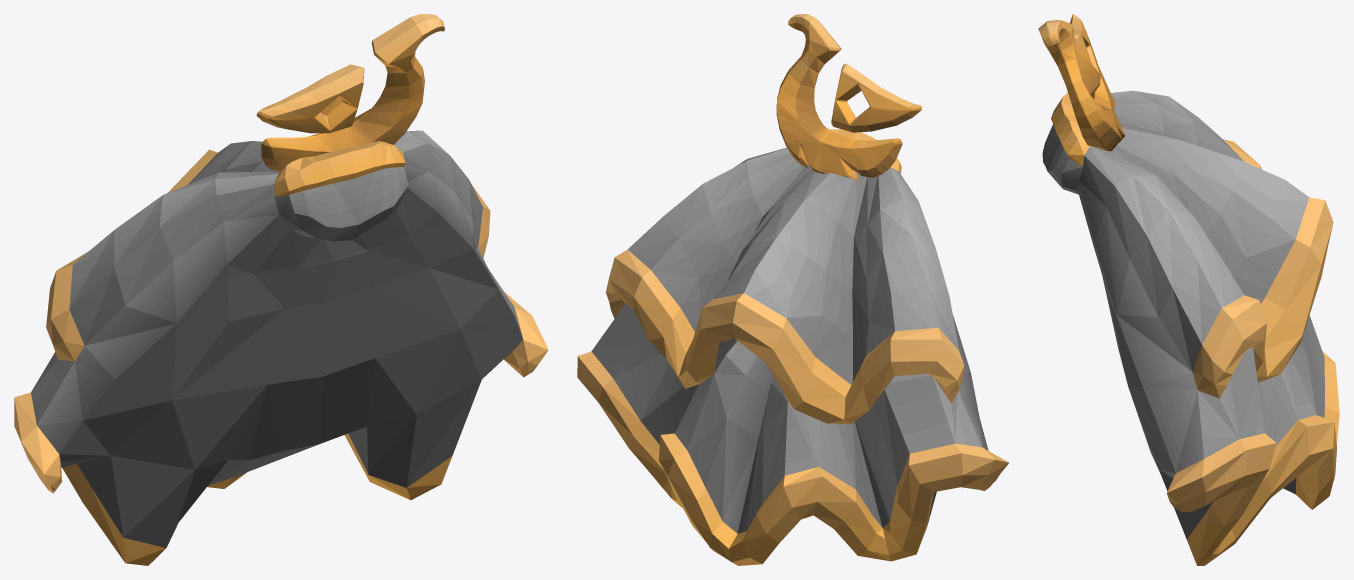
Rendered from CharSkyKid_Neck_AP30Pendant.glb.
3 views of the same model, side by side, from view 1: azimuth 30°, elevation 25°; view 2: azimuth 150°, elevation 25°; view 3: azimuth 270°, elevation 25° (orthographic). The views are drawn at different scales.
Parts seen in each view (by area): view 1: CharSkyKid_Neck_AP30Pendant; view 2: CharSkyKid_Neck_AP30Pendant; view 3: CharSkyKid_Neck_AP30Pendant.
Part boxes in pixels (x1=…): CharSkyKid_Neck_AP30Pendant: x1=14, y1=14, x2=548, y2=565; CharSkyKid_Neck_AP30Pendant: x1=577, y1=14, x2=1009, y2=565; CharSkyKid_Neck_AP30Pendant: x1=1038, y1=14, x2=1339, y2=565.
Bounding box in the file's own units: 2.51 × 2.66 × 1.41.
1 material, 1 textured.
